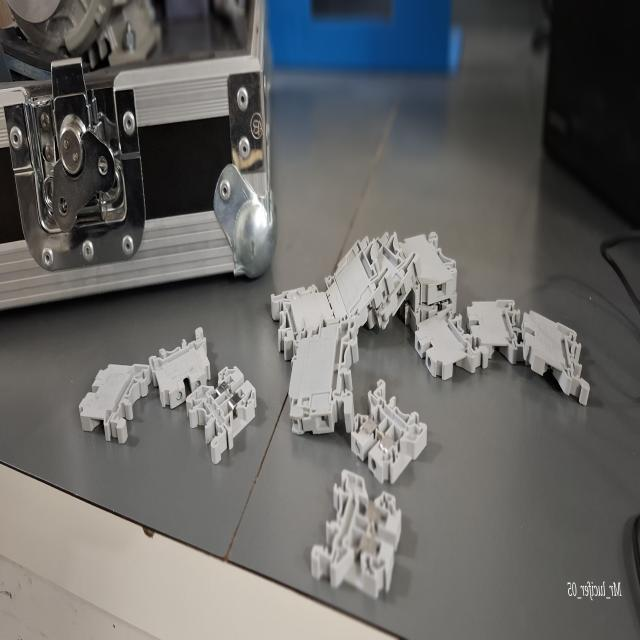Inverted: (522, 306, 592, 408), (76, 360, 152, 448), (412, 305, 490, 383), (148, 328, 212, 410), (464, 294, 526, 368)
Pass: (306, 464, 404, 599), (347, 374, 429, 487), (184, 362, 258, 468)
